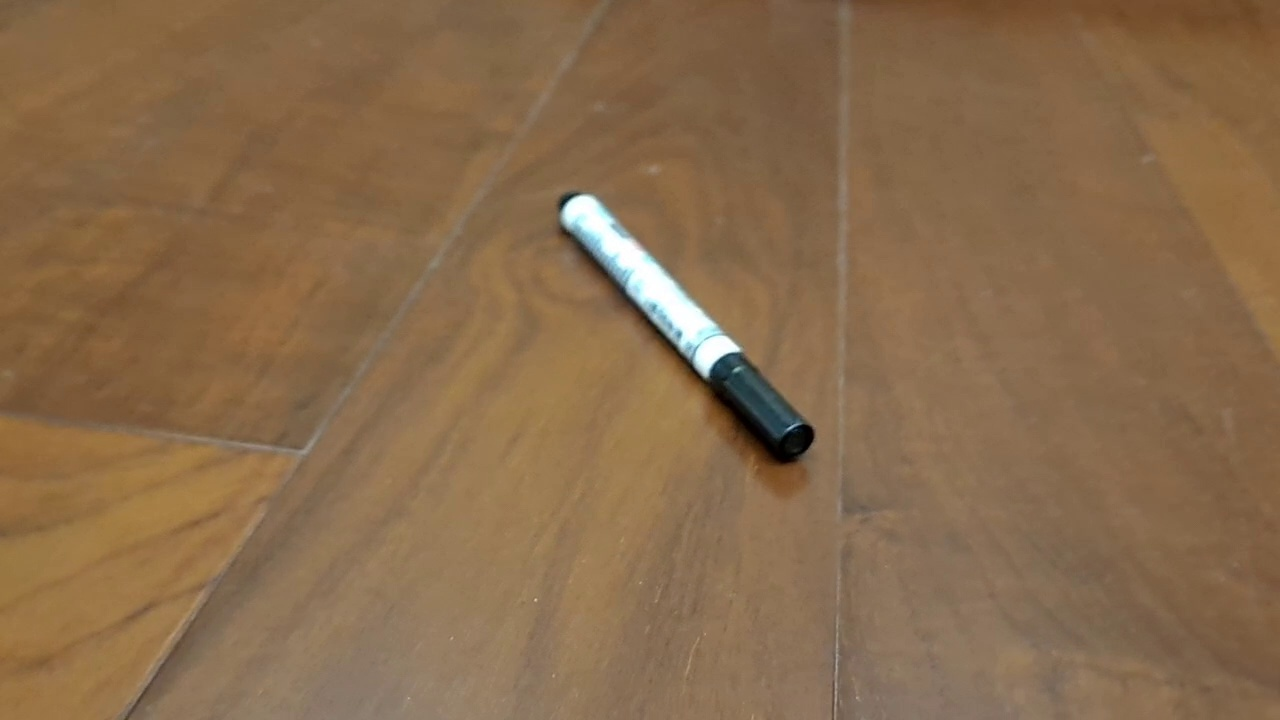pen: (557, 190, 816, 464)
